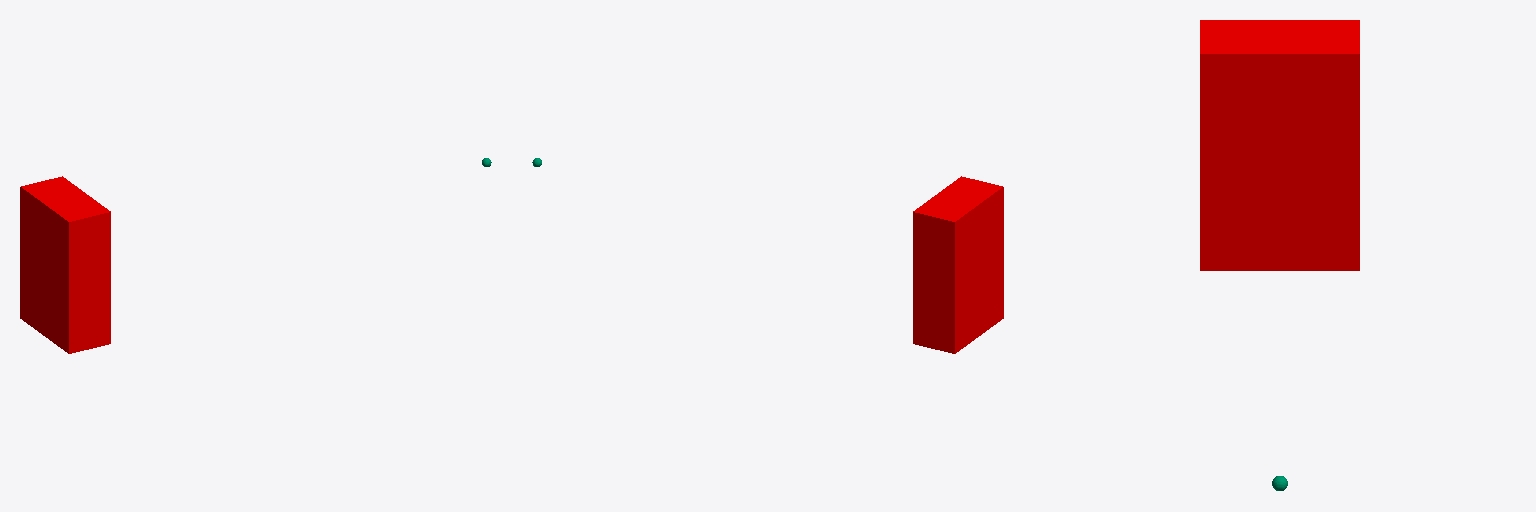
URDF robot description (motion):
<robot name="motion"><material name="red"><color rgba="1 0 0 0.5"/></material><link name="base"/><link name="arm"><visual><origin xyz="1 0 0"/><geometry><box size="0.1 0.2 0.3"/></geometry><material name="red"/></visual></link><link name="finger"><visual><geometry><sphere radius="0.01"/></geometry></visual></link><joint name="hinge" type="revolute"><parent link="base"/><child link="arm"/><axis xyz="0 0 2"/><limit lower="-2" upper="2"/></joint><joint name="follower" type="revolute"><parent link="arm"/><child link="finger"/><origin xyz="2 0 0"/><axis xyz="0 0 1"/><limit lower="-4" upper="4"/><mimic joint="hinge" multiplier="2"/></joint></robot>

--- What the picture shows (computed from the rendered views, not written in the file) ---
Views: 3 orthographic renders of the robot side by side, from view 1: azimuth 30°, elevation 25°; view 2: azimuth 150°, elevation 25°; view 3: azimuth 270°, elevation 25°.
Model motion with 3 links and 2 joints (2 revolute), rooted at base, posed all joints at 0.
Links seen in each view (by area): view 1: arm; view 2: arm; view 3: arm.
Boxes of the visible links, box(x1,y1,x2,y2) form: arm: box(20, 176, 110, 353); arm: box(913, 176, 1003, 353); arm: box(1200, 20, 1359, 270).
Size in the robot's own frame: 1.06 by 0.2 by 0.3 metres.
Geometry: primitives only (box / cylinder / sphere), no mesh files.
